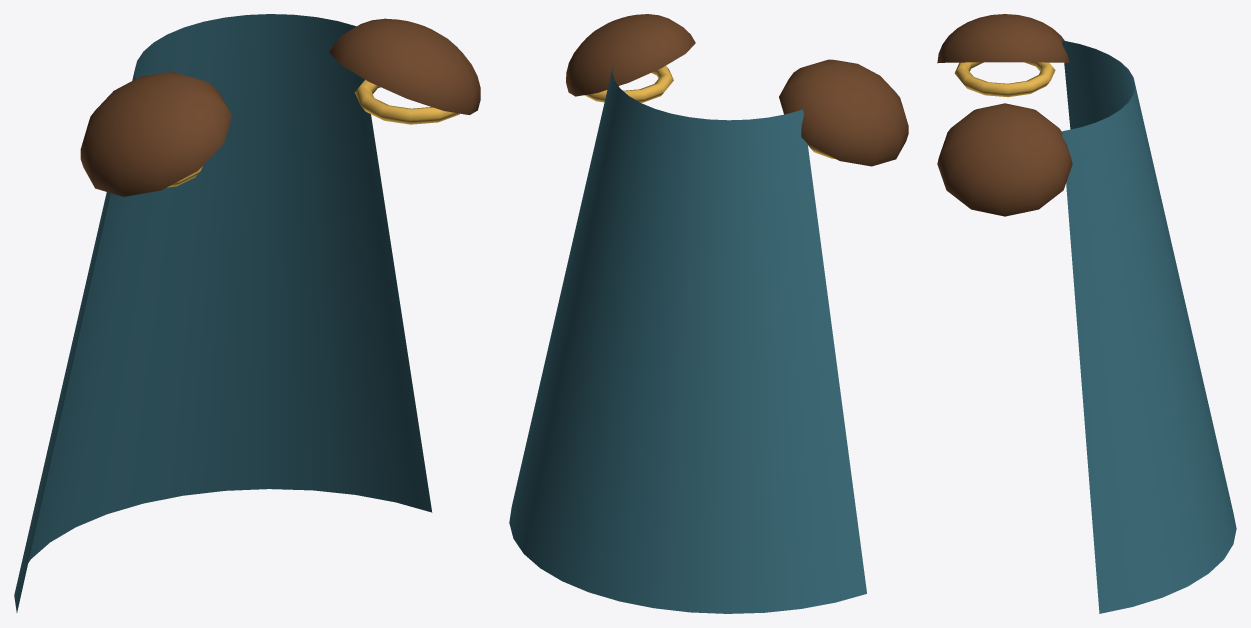
File: armor_look3.glb
3 renders of one model, left to right at view 1: azimuth 30°, elevation 25°; view 2: azimuth 150°, elevation 25°; view 3: azimuth 270°, elevation 25°, orthographic. The views are drawn at different scales.
Visible parts, largest first — view 1: m4_ow85_, m0_ow85_, m2_ow85_, m3_ow85_; view 2: m4_ow85_, m0_ow85_, m2_ow85_, m3_ow85_; view 3: m4_ow85_, m2_ow85_, m0_ow85_, m1_ow85_.
Boxes of the visible parts, bbox=[...] form: m4_ow85_: bbox=[14, 14, 432, 612]; m0_ow85_: bbox=[80, 72, 231, 196]; m2_ow85_: bbox=[329, 18, 480, 114]; m3_ow85_: bbox=[354, 79, 459, 124]; m4_ow85_: bbox=[509, 65, 866, 613]; m0_ow85_: bbox=[779, 59, 908, 166]; m2_ow85_: bbox=[566, 14, 695, 96]; m3_ow85_: bbox=[584, 66, 673, 102]; m4_ow85_: bbox=[1062, 40, 1236, 613]; m2_ow85_: bbox=[937, 103, 1072, 216]; m0_ow85_: bbox=[937, 14, 1069, 63]; m1_ow85_: bbox=[954, 62, 1055, 97].
Size of the model in its own units: 1.12 by 1.41 by 0.827.
